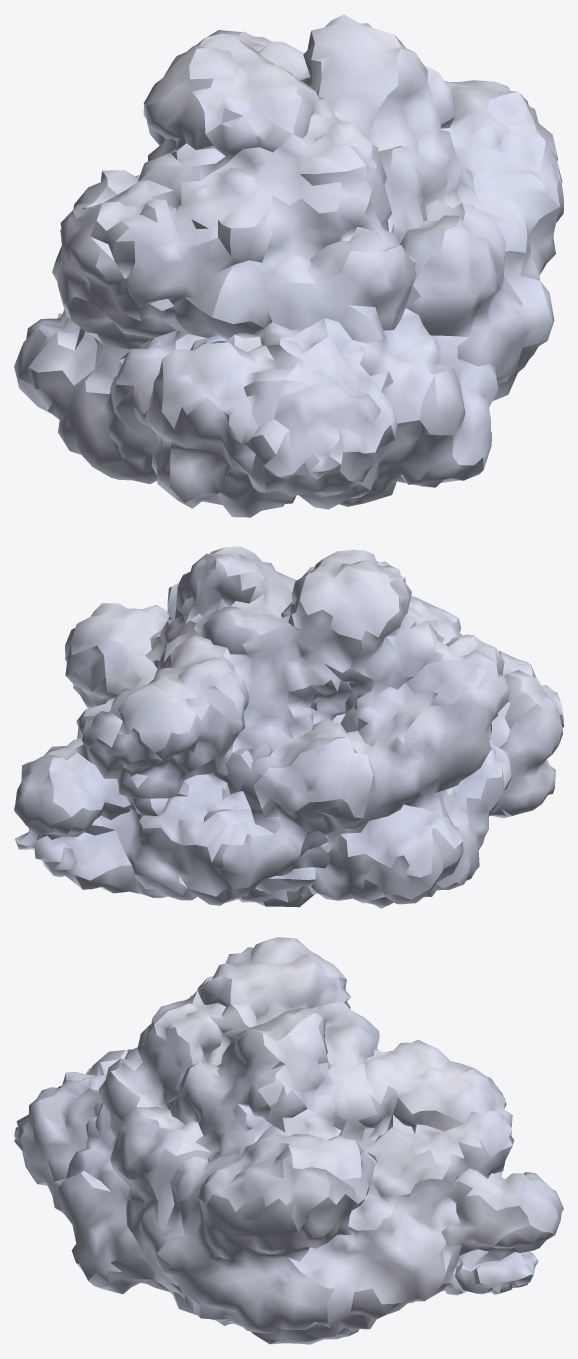
Rendered from cloud_fluffy_lite.glb.
3 renders of one model, top to bottom at view 1: azimuth 30°, elevation 25°; view 2: azimuth 150°, elevation 25°; view 3: azimuth 270°, elevation 25°, orthographic. The views are drawn at different scales.
Visible parts, largest first — view 1: geometry_0; view 2: geometry_0; view 3: geometry_0.
Part boxes in pixels (x1,y1,x2,y2): geometry_0: (14,14,563,517); geometry_0: (14,546,563,908); geometry_0: (14,937,563,1344).
Size of the model in its own units: 1.58 by 1.29 by 1.91.
Materials: 1 (1 with a texture image).
